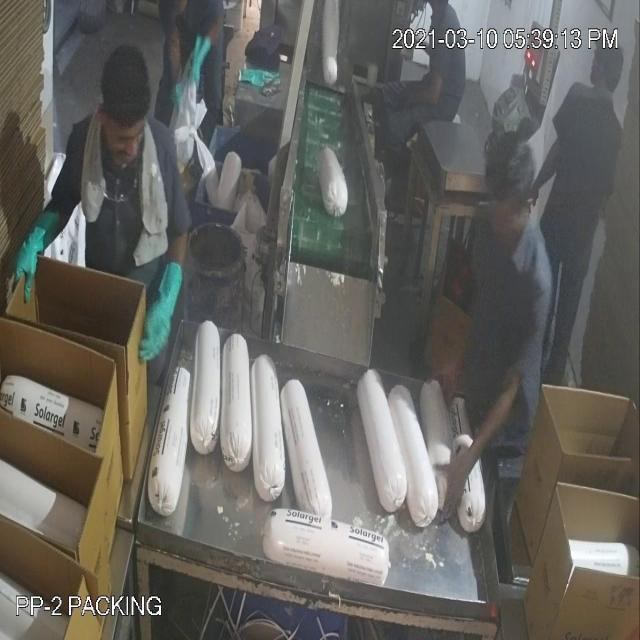No_Gloves: (38, 120, 480, 454)
